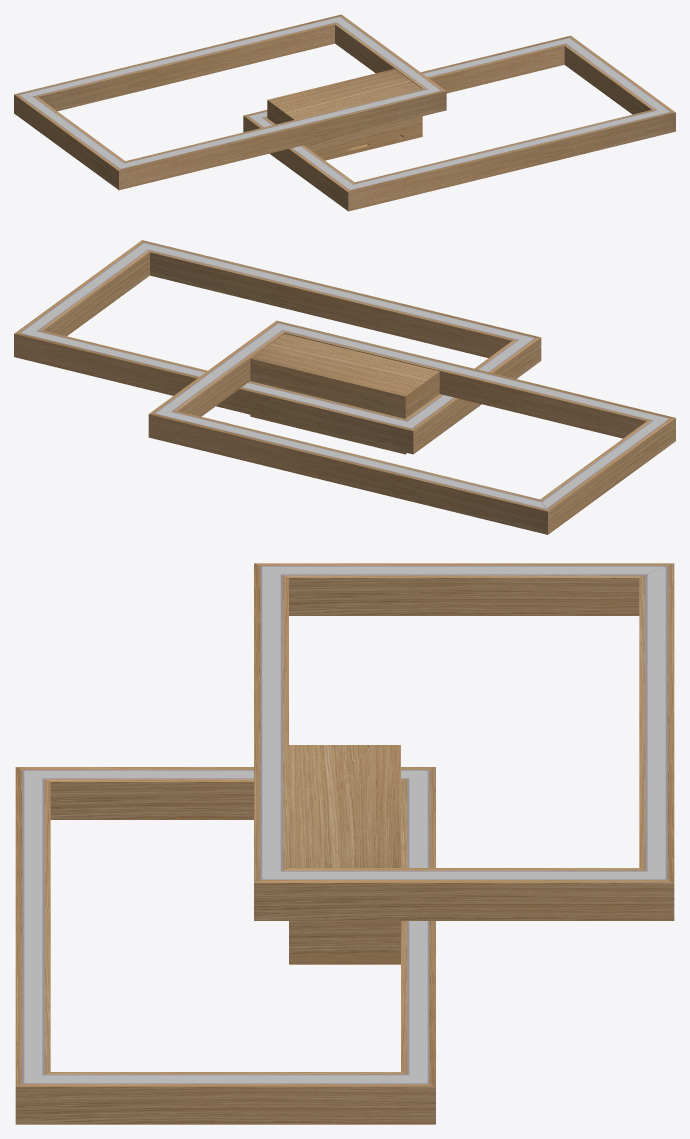
The picture shows the model from 3 angles, top to bottom: view 1: azimuth 30°, elevation 25°; view 2: azimuth 150°, elevation 25°; view 3: azimuth 270°, elevation 25°; orthographic projection. The views are drawn at different scales.
Parts seen in each view (by area): view 1: Cube.002_Cube.001, Cube.006_Cube.001, Cube.001, Cube.010_Cube.009, Cube_Cube.001, Cube.007_Cube.005, Cube.004_Cube.005, Cube.003_Cube.005, Cube.008_Cube.005, alu_led6_Cube.021, alu_led1_Cube.013, alu_led3_Cube.017 (+9 smaller); view 2: Cube.001, Cube.002_Cube.001, Cube_Cube.001, Cube.010_Cube.009, Cube.006_Cube.001, Cube.007_Cube.005, Cube.004_Cube.005, Cube.003_Cube.005, Cube.008_Cube.005, alu_led1_Cube.013, alu_led6_Cube.021, alu_led3_Cube.017 (+9 smaller); view 3: Cube.010_Cube.009, Cube.004_Cube.005, Cube.008_Cube.005, Cube.007_Cube.005, Cube.003_Cube.005, alu_led1_Cube.013, alu_led6_Cube.021, alu_led3_Cube.017, alu_led5_Cube.019, Cube.002_Cube.001, Cube.001, Cube.006_Cube.001 (+11 smaller).
Part boxes in pixels (left/top/right/bottom): Cube.002_Cube.001: left=348, top=110, right=675, bottom=211; Cube.006_Cube.001: left=119, top=88, right=446, bottom=190; Cube.001: left=15, top=14, right=341, bottom=111; Cube.010_Cube.009: left=267, top=69, right=422, bottom=160; Cube_Cube.001: left=244, top=36, right=570, bottom=118; Cube.007_Cube.005: left=14, top=94, right=125, bottom=189; Cube.004_Cube.005: left=564, top=36, right=675, bottom=114; Cube.003_Cube.005: left=243, top=115, right=354, bottom=210; Cube.008_Cube.005: left=335, top=14, right=445, bottom=91; alu_led6_Cube.021: left=350, top=110, right=669, bottom=189; alu_led1_Cube.013: left=20, top=17, right=339, bottom=96; alu_led3_Cube.017: left=121, top=89, right=439, bottom=168; Cube.001: left=148, top=411, right=547, bottom=534; Cube.002_Cube.001: left=142, top=240, right=540, bottom=357; Cube_Cube.001: left=14, top=330, right=413, bottom=454; Cube.010_Cube.009: left=250, top=333, right=439, bottom=454; Cube.006_Cube.001: left=277, top=320, right=675, bottom=438; Cube.007_Cube.005: left=540, top=418, right=675, bottom=534; Cube.004_Cube.005: left=14, top=240, right=149, bottom=336; Cube.003_Cube.005: left=406, top=337, right=541, bottom=454; Cube.008_Cube.005: left=149, top=320, right=284, bottom=416; alu_led1_Cube.013: left=156, top=411, right=545, bottom=508; alu_led6_Cube.021: left=144, top=243, right=533, bottom=339; alu_led3_Cube.017: left=279, top=323, right=667, bottom=420; Cube.010_Cube.009: left=289, top=745, right=400, bottom=964; Cube.004_Cube.005: left=15, top=1072, right=435, bottom=1124; Cube.008_Cube.005: left=254, top=868, right=674, bottom=920; Cube.007_Cube.005: left=255, top=563, right=672, bottom=615; Cube.003_Cube.005: left=16, top=767, right=435, bottom=819; alu_led1_Cube.013: left=647, top=567, right=665, bottom=878; alu_led6_Cube.021: left=24, top=771, right=42, bottom=1082; alu_led3_Cube.017: left=262, top=567, right=280, bottom=878; alu_led5_Cube.019: left=409, top=770, right=427, bottom=1082; Cube.002_Cube.001: left=15, top=767, right=50, bottom=1086; Cube.001: left=639, top=563, right=674, bottom=882; Cube.006_Cube.001: left=254, top=563, right=288, bottom=882.
Bounding box in the file's own units: 82 × 7.6 × 47.
